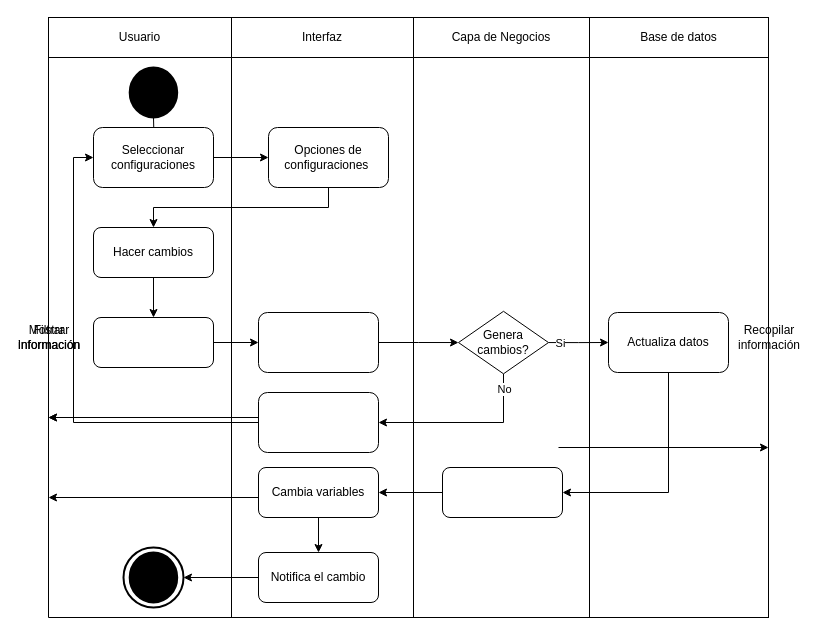
The diagram is 817 pixels wide and 635 high, and some of its shapes have lost their labels. The shapes that lost their labels are listed below. From the top down, each one's box as (x1, y1, x2, y2) in pixels, then its label:
(92, 316, 214, 368): Presiona el botón guardar
(258, 312, 378, 372): Botón guardar
(258, 392, 378, 452): Mensaje de error
(442, 466, 562, 518): Efectuar cambios
